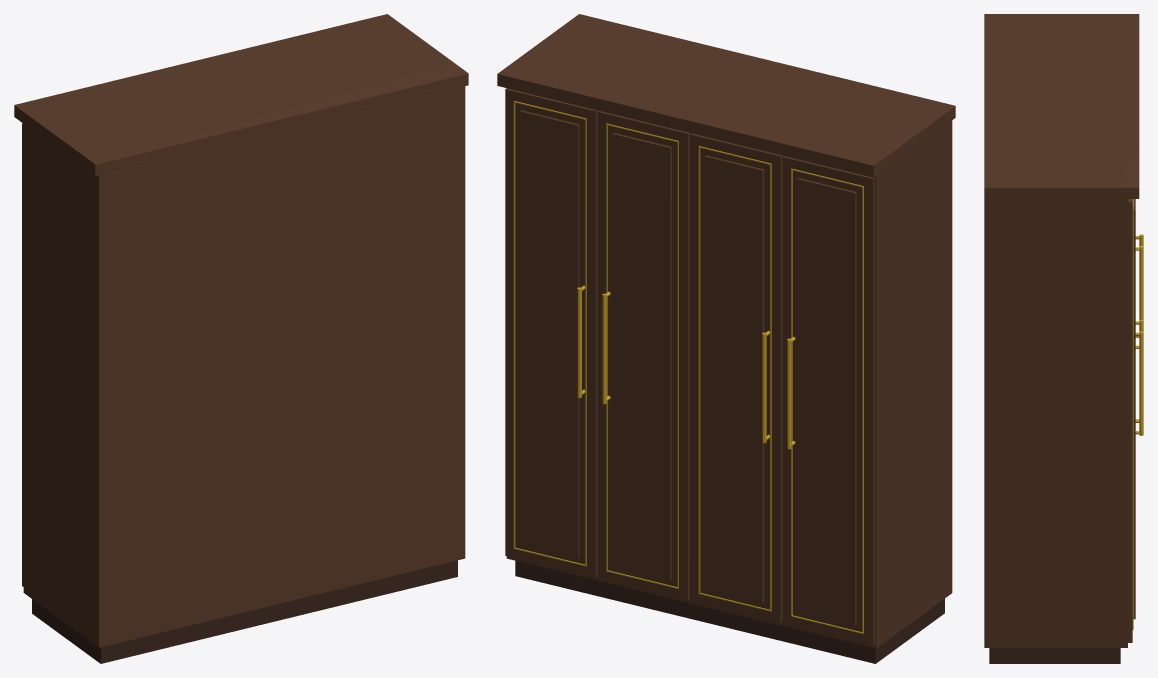
Rendered from prop_wardrobe.glb.
3 views of the same model, side by side, from view 1: azimuth 30°, elevation 25°; view 2: azimuth 150°, elevation 25°; view 3: azimuth 270°, elevation 25° (orthographic). The views are drawn at different scales.
Parts seen in each view (by area): view 1: Wardrobe; view 2: Wardrobe; view 3: Wardrobe.
Boxes of the visible parts, bbox=[...] form: Wardrobe: bbox=[14, 14, 468, 663]; Wardrobe: bbox=[497, 14, 955, 663]; Wardrobe: bbox=[984, 14, 1143, 663].
Size of what is drawn, in the model's own units: 1.63 by 2.1 by 0.632.
